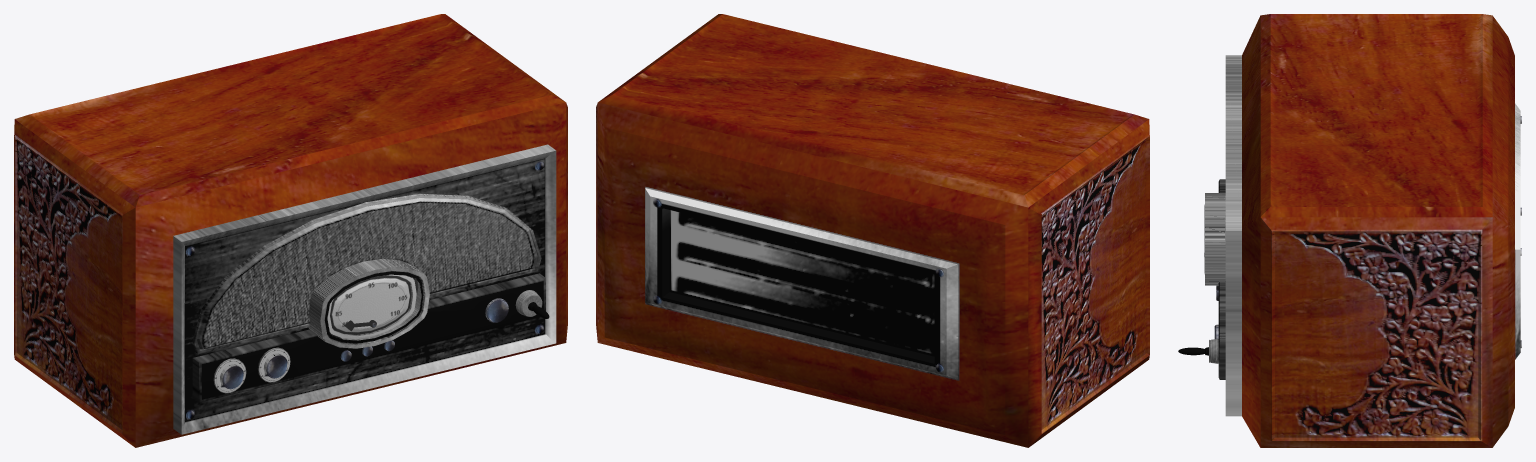
File: VintageRadio.fbx
3 views of the same model, side by side, from view 1: azimuth 30°, elevation 25°; view 2: azimuth 150°, elevation 25°; view 3: azimuth 270°, elevation 25° (orthographic). The views are drawn at different scales.
Parts seen in each view (by area): view 1: polySurface5; view 2: polySurface5; view 3: polySurface5.
Part boxes in pixels (left/top/right/bottom): polySurface5: left=14, top=14, right=567, bottom=447; polySurface5: left=596, top=14, right=1149, bottom=447; polySurface5: left=1204, top=14, right=1521, bottom=447.
Bounding box in the file's own units: 16.01 × 8.47 × 11.14.
6 materials, 5 textured.
